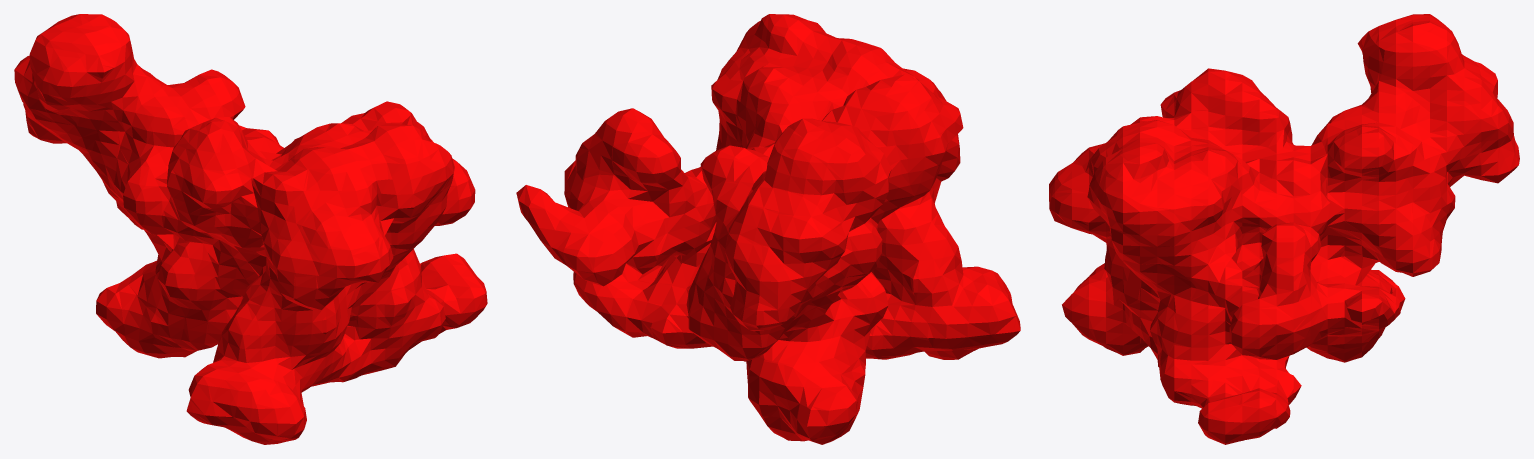
The model's file is rpoB_coarse.dae.
3 renders of one model, left to right at view 1: azimuth 30°, elevation 25°; view 2: azimuth 150°, elevation 25°; view 3: azimuth 270°, elevation 25°, orthographic. The views are drawn at different scales.
Visible parts, largest first — view 1: rpoB; view 2: rpoB; view 3: rpoB.
Boxes of the visible parts, x1,y1,x2,y2 form: rpoB: (14,14,487,444); rpoB: (516,14,1020,444); rpoB: (1049,14,1519,444).
Bounding box in the file's own units: 109 × 95.8 × 129.
